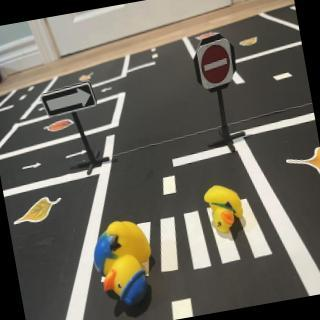duck_regular: (202, 181, 249, 239)
duck_specialty: (90, 216, 165, 320)
road_crosswalk: (138, 199, 276, 282)
road_oneway: (19, 160, 45, 176), (66, 150, 91, 163), (100, 83, 115, 95)
sign_noentry: (195, 41, 237, 91)
sign_oneway_right: (40, 85, 100, 120)
